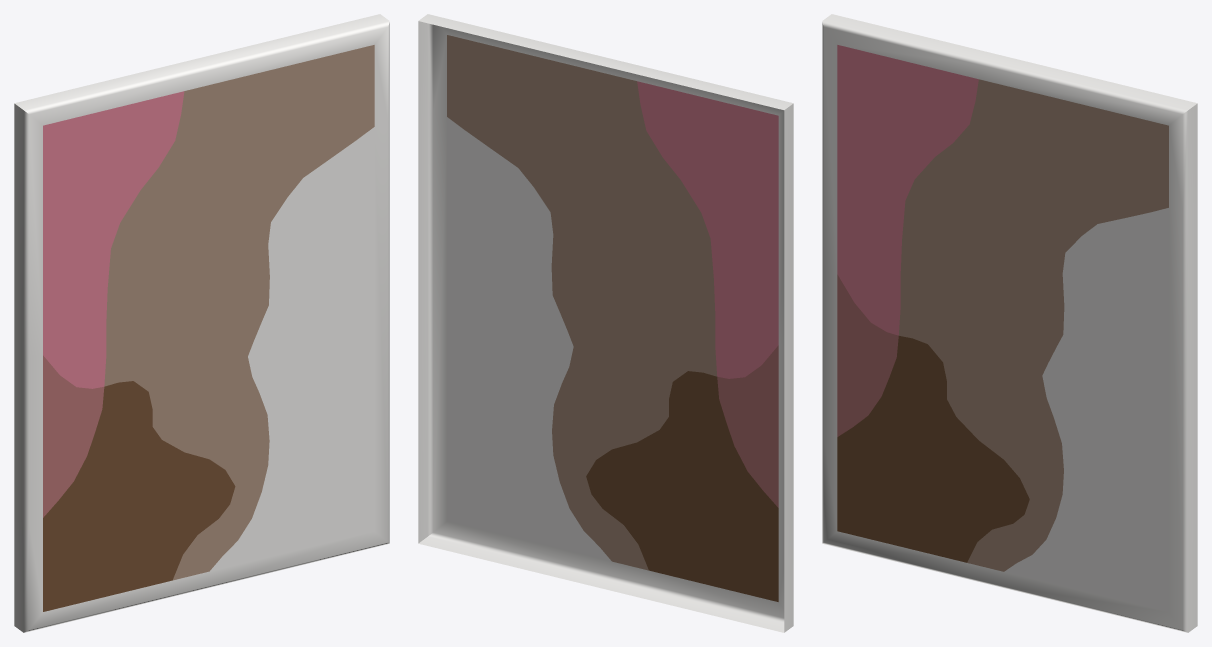
Rendered from Painting_4.glb.
3 renders of one model, left to right at view 1: azimuth 30°, elevation 25°; view 2: azimuth 150°, elevation 25°; view 3: azimuth 330°, elevation 25°, orthographic.
Visible parts, largest first — view 1: Painting_4; view 2: Painting_4; view 3: Painting_4.
Part boxes in pixels (x1=…): Painting_4: x1=14, y1=14, x2=389, y2=632; Painting_4: x1=418, y1=14, x2=793, y2=632; Painting_4: x1=822, y1=14, x2=1197, y2=632.
Bounding box in the file's own units: 0.6566 × 0.8961 × 0.036.
Materials: 1 (1 with a texture image).
